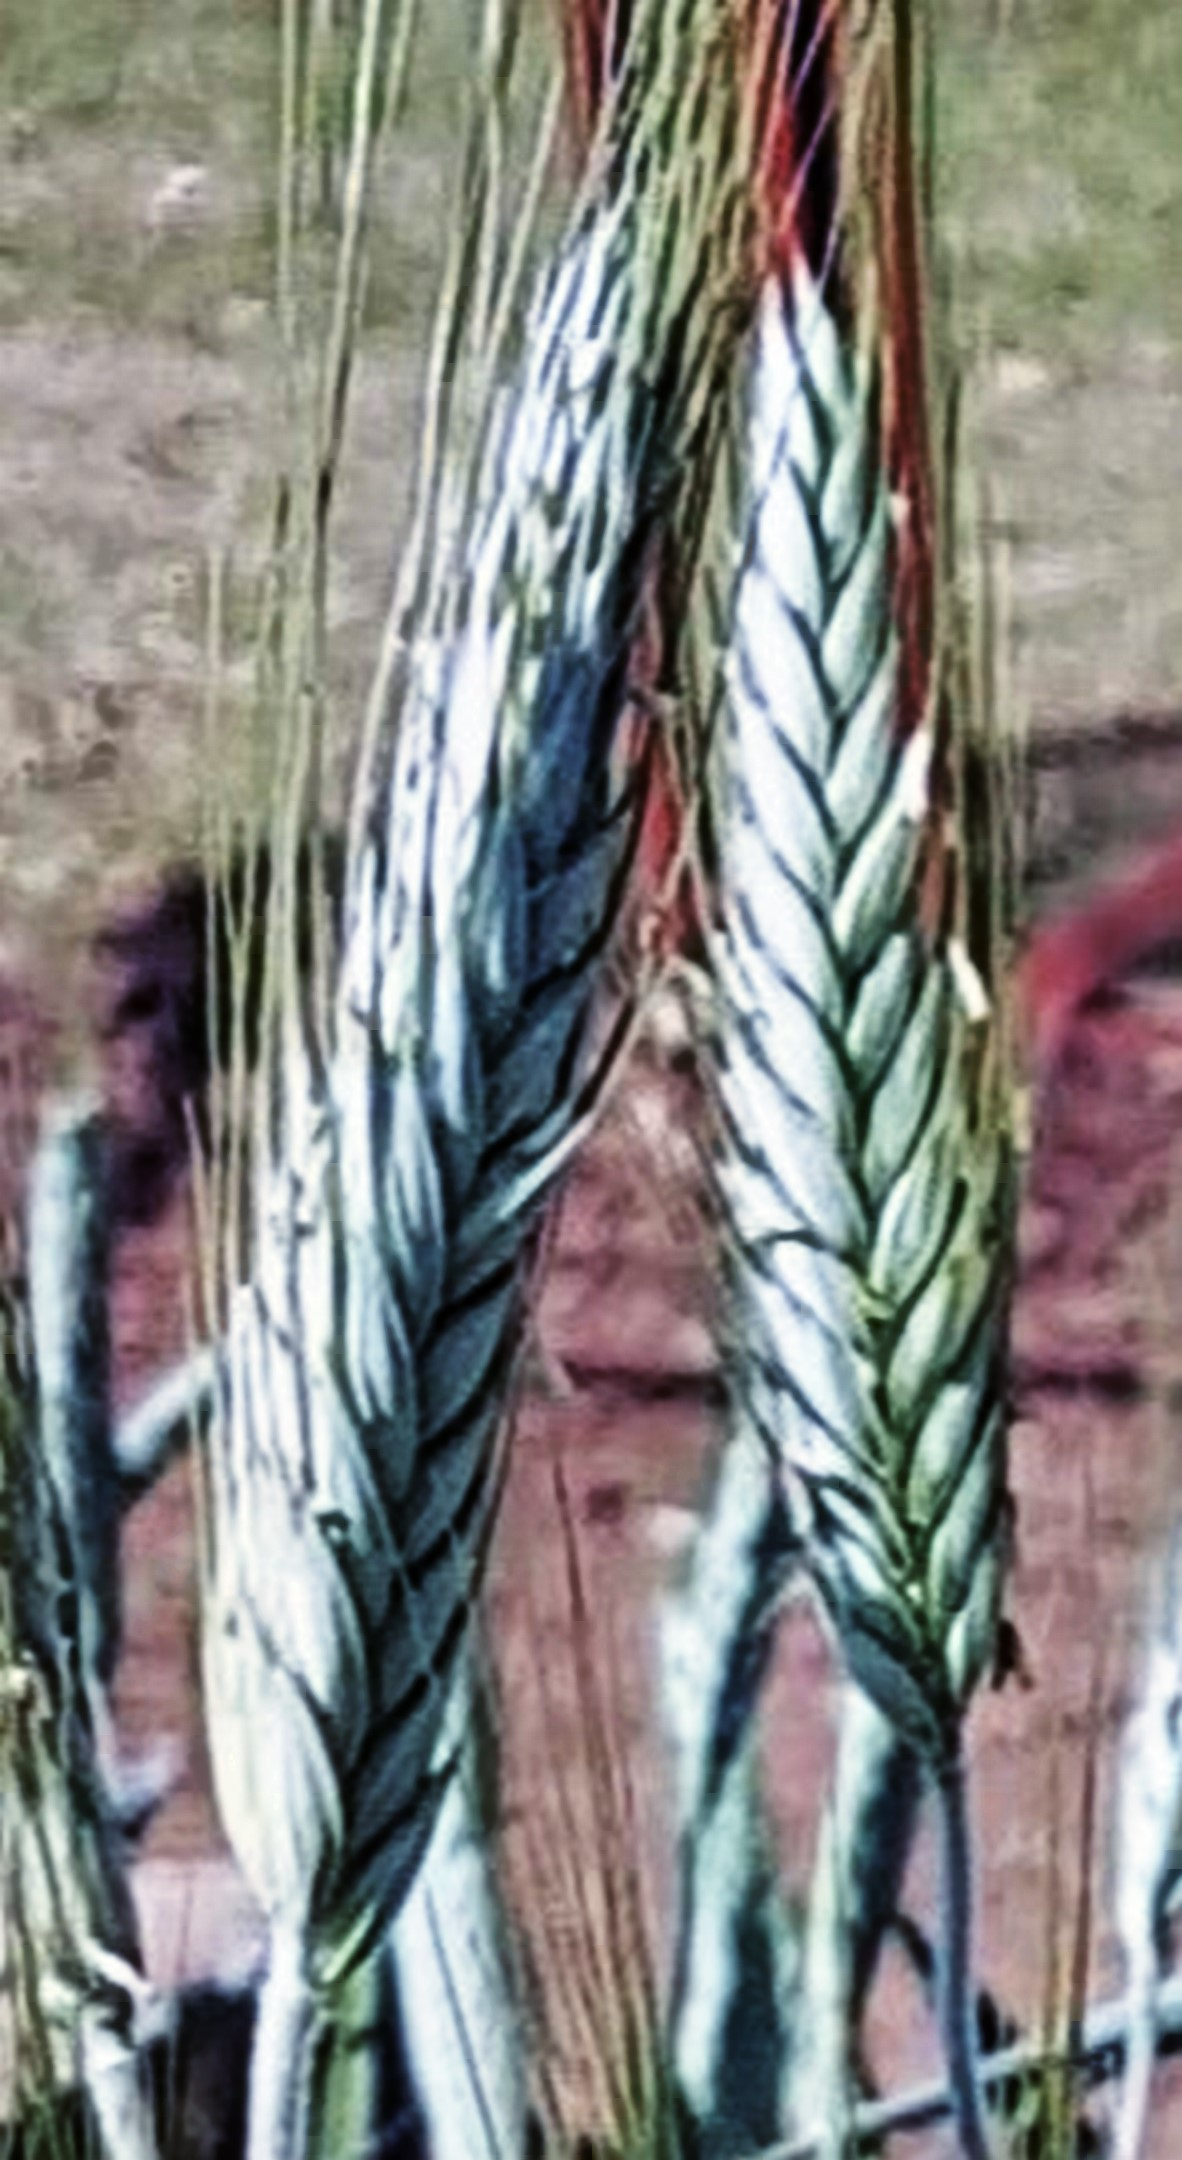Healthy Wheat: (170, 239, 678, 1964), (694, 266, 1082, 1712)
